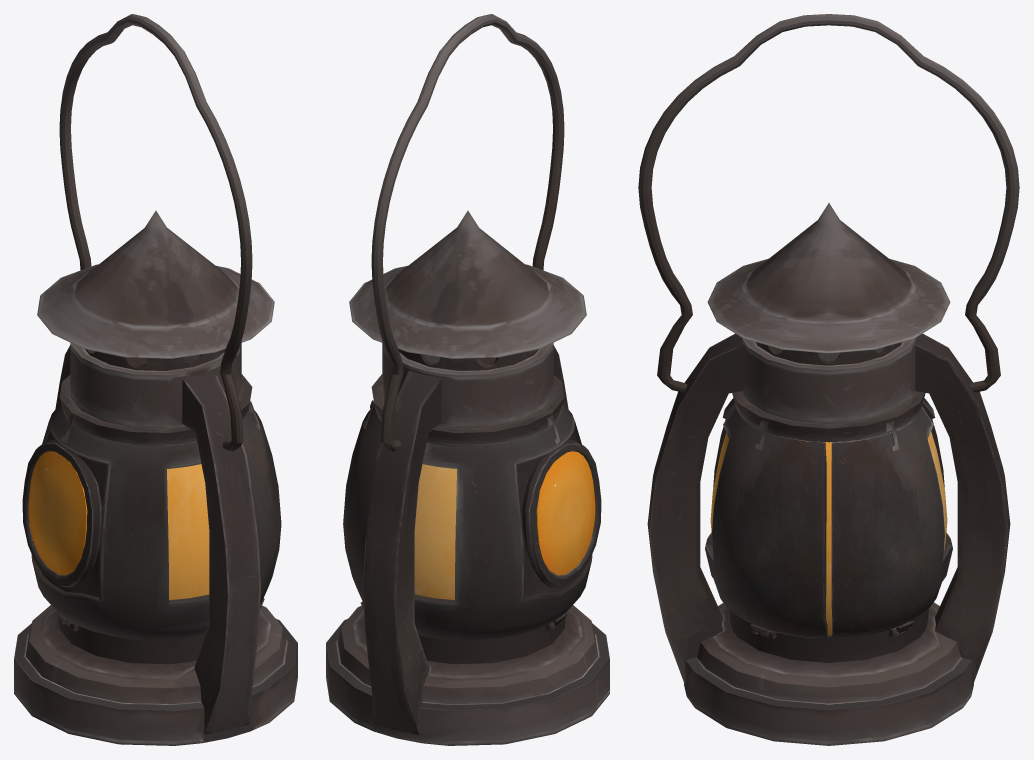
The model's file is Lantern_closed01.fbx.
3 views of the same model, side by side, from view 1: azimuth 30°, elevation 25°; view 2: azimuth 150°, elevation 25°; view 3: azimuth 270°, elevation 25° (orthographic).
Visible parts, largest first — view 1: Lantern_closed01, Lantern_handle; view 2: Lantern_closed01, Lantern_handle; view 3: Lantern_closed01, Lantern_handle.
Part boxes in pixels (x1,y1,x2,y2): Lantern_closed01: (14,210,297,745); Lantern_handle: (59,14,252,451); Lantern_closed01: (326,210,609,745); Lantern_handle: (371,14,564,451); Lantern_closed01: (647,203,1010,745); Lantern_handle: (638,14,1019,392).
Bounding box in the file's own units: 0.1493 × 0.3807 × 0.1962.
Materials: 2 (2 with a texture image).
